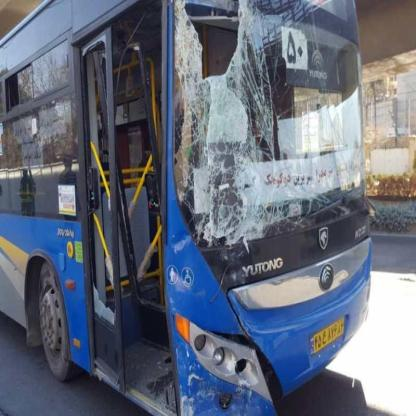Bus: (0, 0, 372, 416)
